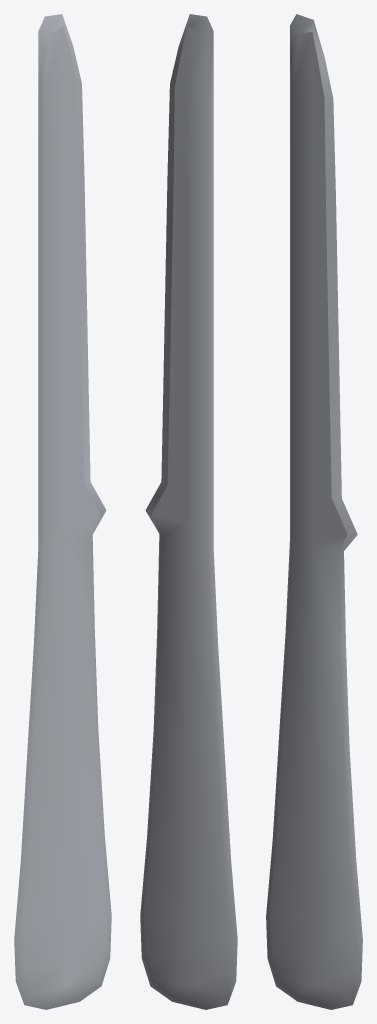
The model's file is cooking_assets_butter_knife.glb.
The picture shows the model from 3 angles, left to right: view 1: azimuth 30°, elevation 25°; view 2: azimuth 150°, elevation 25°; view 3: azimuth 330°, elevation 25°; orthographic projection.
Parts seen in each view (by area): view 1: utensil_butter_knife_Cube.024; view 2: utensil_butter_knife_Cube.024; view 3: utensil_butter_knife_Cube.024.
Boxes of the visible parts, x1=… form: utensil_butter_knife_Cube.024: x1=14, y1=14, x2=111, y2=1009; utensil_butter_knife_Cube.024: x1=140, y1=14, x2=237, y2=1009; utensil_butter_knife_Cube.024: x1=266, y1=14, x2=362, y2=1009.
Bounding box in the file's own units: 0.4843 × 4.72 × 0.0347.
1 material, 1 textured.
